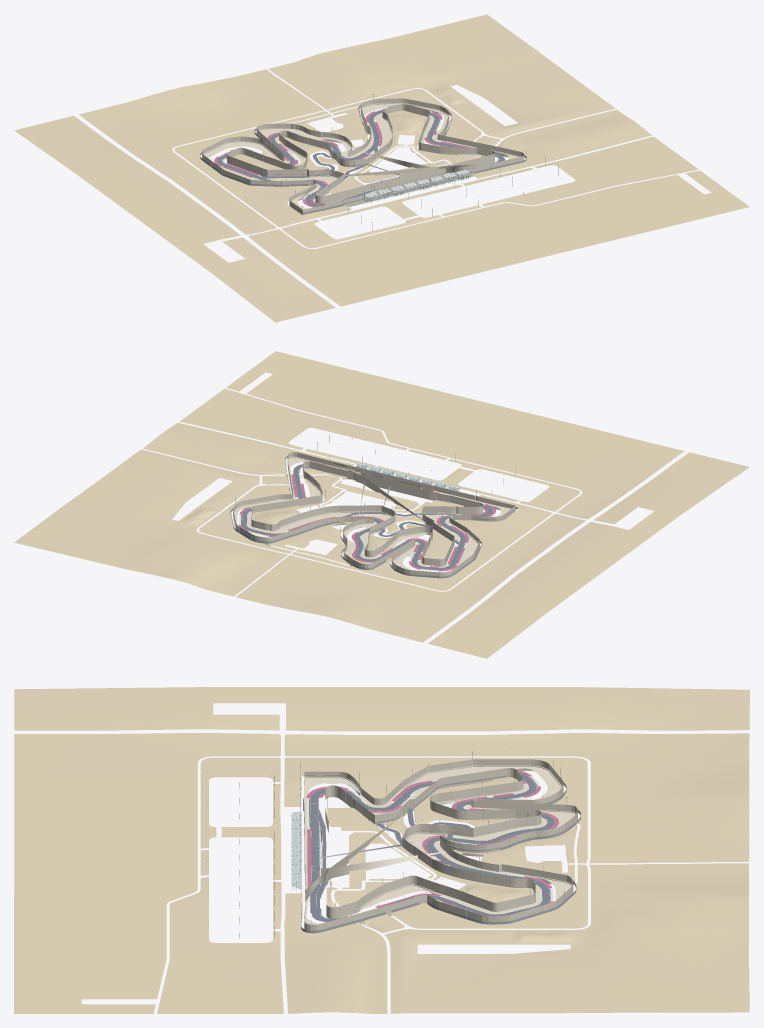
The model's file is track.glb.
The picture shows the model from 3 angles, top to bottom: view 1: azimuth 30°, elevation 25°; view 2: azimuth 150°, elevation 25°; view 3: azimuth 270°, elevation 25°; orthographic projection. The views are drawn at different scales.
Parts seen in each view (by area): view 1: Terrain, Barrier_Wall, Runoff_Sand, Road, Track_Fence, Curbs_Burgundy; view 2: Terrain, Barrier_Wall, Runoff_Sand, Road, Track_Fence, Curbs_Burgundy; view 3: Terrain, Barrier_Wall, Road, Runoff_Sand, Track_Fence, Curbs_Burgundy, Lighting_and_Details.
Boxes of the visible parts, box(x1,y1,x2,y2) form: Terrain: box(14, 14, 749, 322); Barrier_Wall: box(202, 98, 524, 214); Runoff_Sand: box(204, 103, 519, 209); Road: box(217, 110, 504, 206); Track_Fence: box(200, 105, 526, 214); Curbs_Burgundy: box(214, 111, 472, 207); Terrain: box(14, 351, 749, 658); Barrier_Wall: box(233, 452, 515, 576); Runoff_Sand: box(234, 457, 511, 570); Road: box(241, 464, 492, 570); Track_Fence: box(230, 456, 517, 578); Curbs_Burgundy: box(239, 473, 495, 571); Terrain: box(14, 687, 749, 1013); Barrier_Wall: box(303, 759, 577, 930); Road: box(309, 772, 554, 922); Runoff_Sand: box(304, 766, 575, 924); Track_Fence: box(301, 775, 580, 933); Curbs_Burgundy: box(306, 770, 558, 907); Lighting_and_Details: box(207, 751, 581, 937).
Bounding box in the file's own units: 1877 × 52.03 × 1798.
